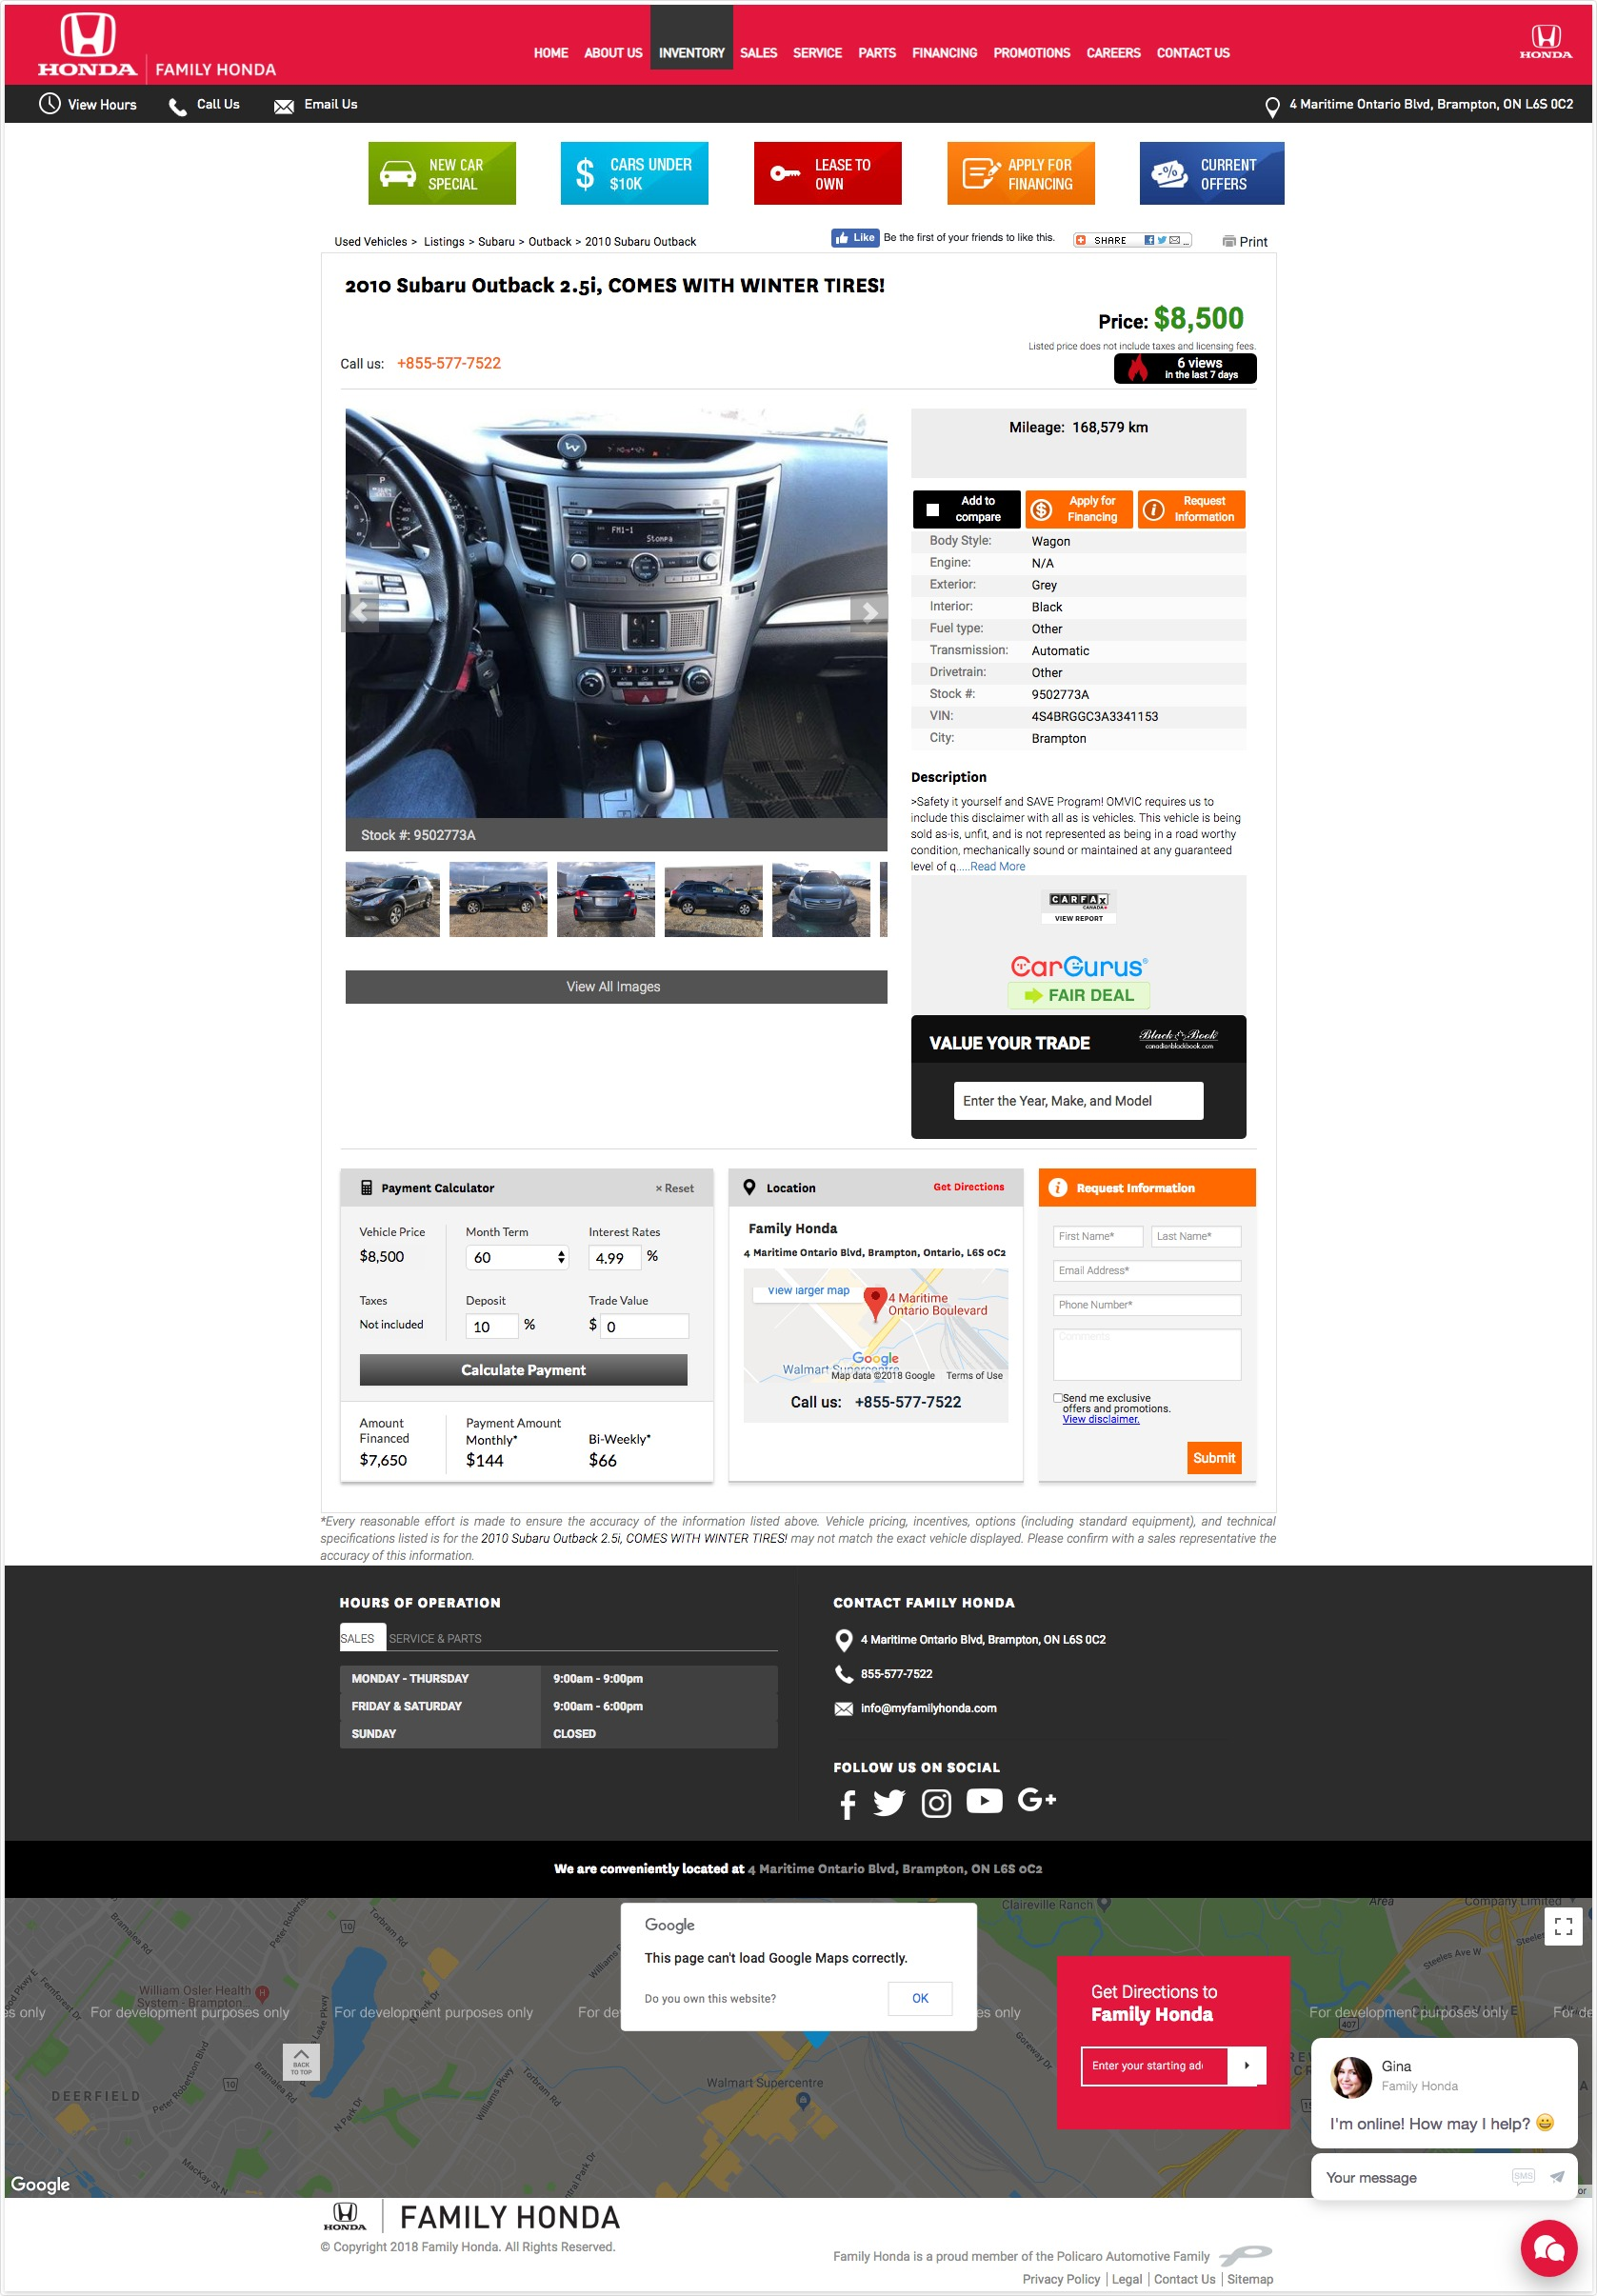car: (850, 593, 892, 635)
